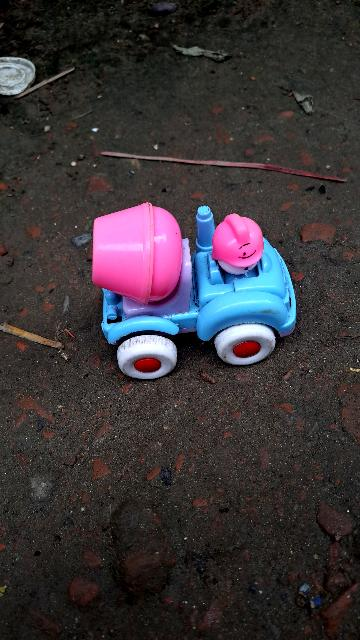hardplastic: (94, 193, 305, 385)
